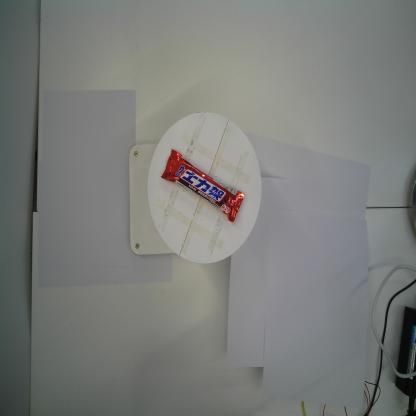Chocolate: (161, 148, 245, 224)
